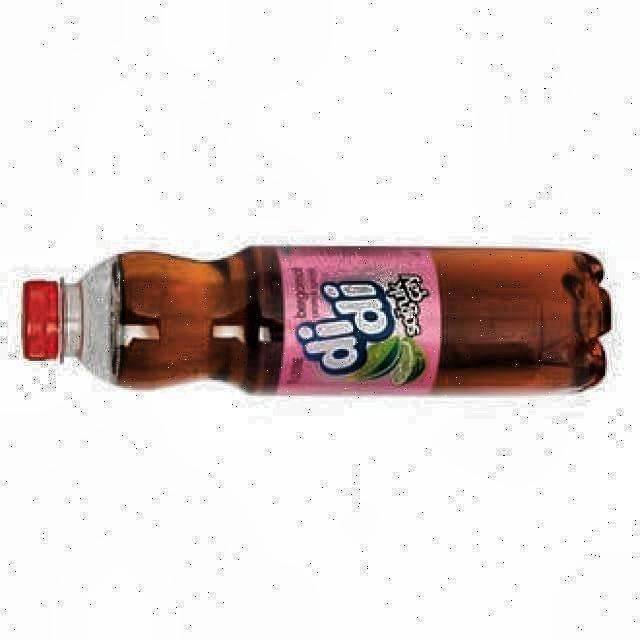plastic: (24, 246, 611, 393)
